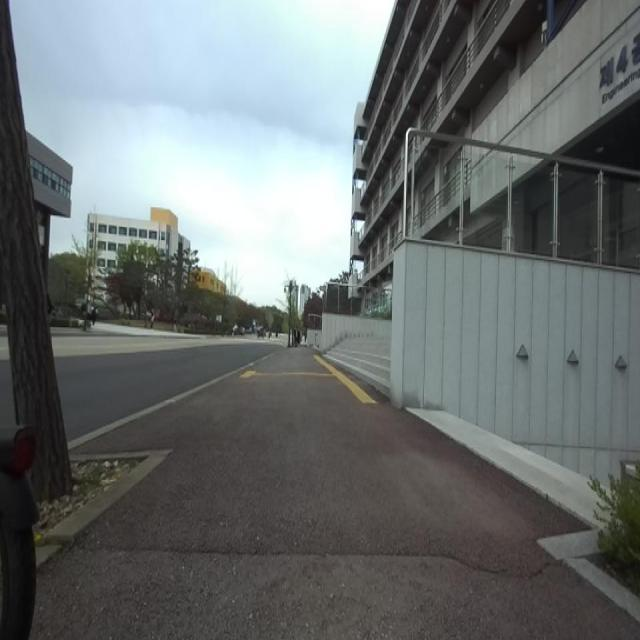sidewalk: (30, 348, 640, 639), (67, 355, 269, 450), (538, 530, 640, 622), (314, 353, 376, 403), (231, 366, 252, 380), (310, 348, 323, 360)
